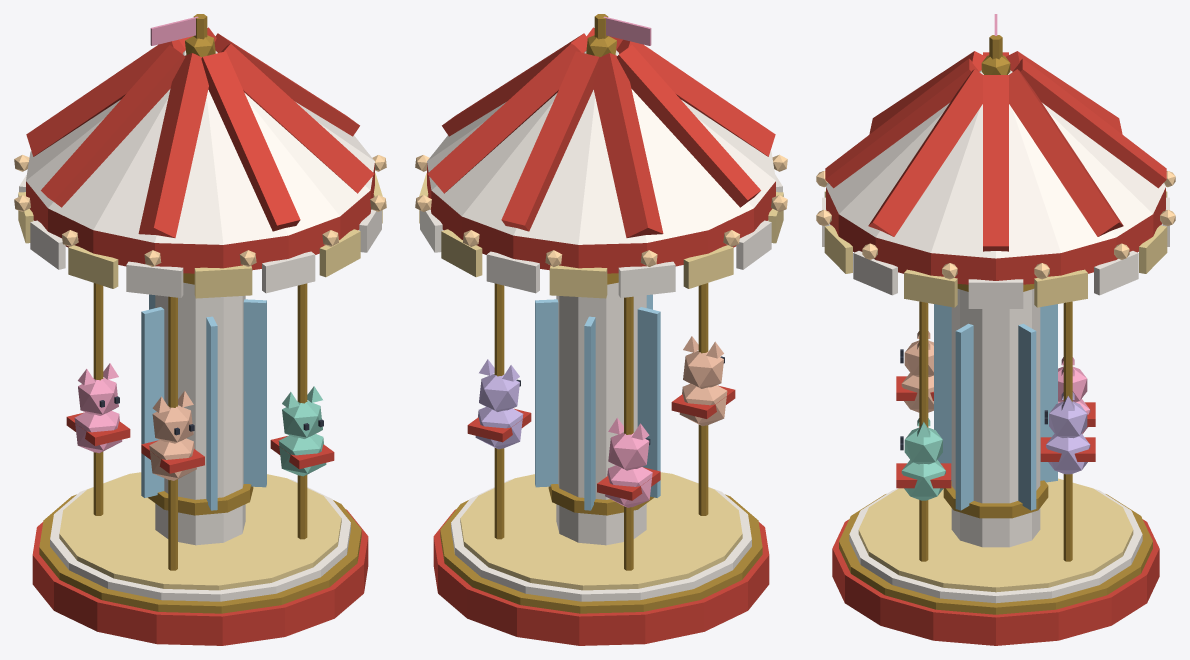
The model's file is CatCafe_Decor_MiniCarousel.glb.
3 renders of one model, left to right at view 1: azimuth 30°, elevation 25°; view 2: azimuth 150°, elevation 25°; view 3: azimuth 270°, elevation 25°, orthographic. The views are drawn at different scales.
Visible parts, largest first — view 1: CatCafe_Decor_MiniCarousel, CatCafe_Decor_MiniCarousel_Spin, CatCafe_Decor_MiniCarousel_Glow; view 2: CatCafe_Decor_MiniCarousel, CatCafe_Decor_MiniCarousel_Spin, CatCafe_Decor_MiniCarousel_Glow; view 3: CatCafe_Decor_MiniCarousel, CatCafe_Decor_MiniCarousel_Spin, CatCafe_Decor_MiniCarousel_Glow.
Boxes of the visible parts, <box> form: CatCafe_Decor_MiniCarousel: <box>18,14,382,645</box>; CatCafe_Decor_MiniCarousel_Spin: <box>59,283,341,590</box>; CatCafe_Decor_MiniCarousel_Glow: <box>14,154,386,266</box>; CatCafe_Decor_MiniCarousel: <box>419,14,783,645</box>; CatCafe_Decor_MiniCarousel_Spin: <box>460,283,742,590</box>; CatCafe_Decor_MiniCarousel_Glow: <box>415,154,787,266</box>; CatCafe_Decor_MiniCarousel: <box>822,14,1169,645</box>; CatCafe_Decor_MiniCarousel_Spin: <box>858,301,1133,592</box>; CatCafe_Decor_MiniCarousel_Glow: <box>816,171,1175,279</box>.
Size of the model in its own units: 2.75 by 4.55 by 2.75.
1 material, 1 textured.
